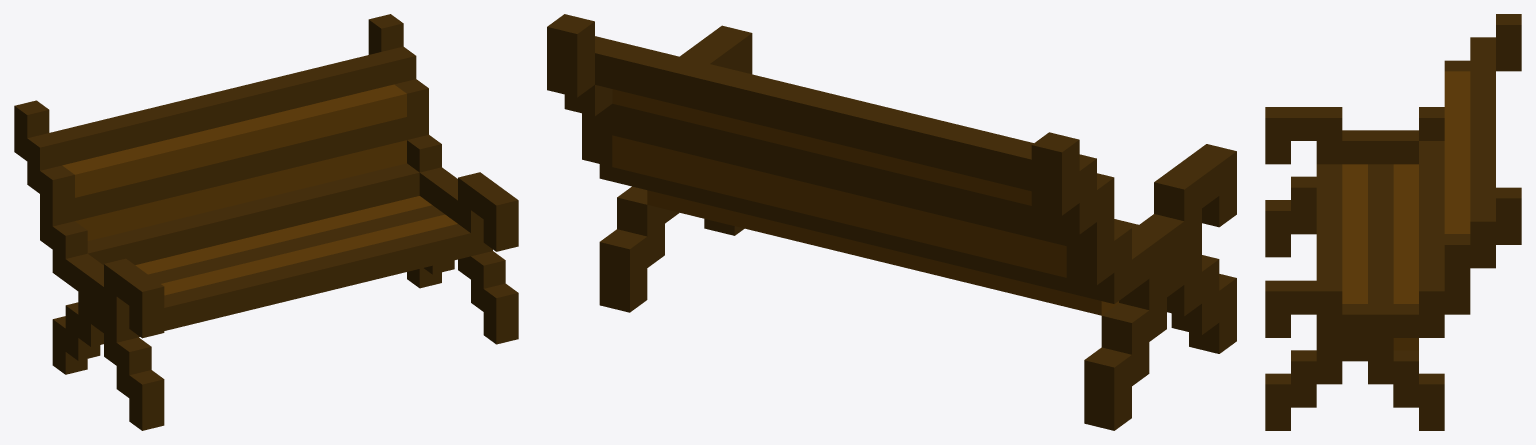
Rendered from bench.obj.
3 views of the same model, side by side, from view 1: azimuth 30°, elevation 25°; view 2: azimuth 150°, elevation 25°; view 3: azimuth 270°, elevation 25° (orthographic). The views are drawn at different scales.
Size of the model in its own units: 1.7 by 1 by 1.
1 material, 1 textured.
